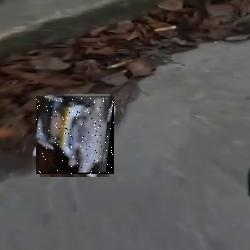restaffald: (36, 96, 114, 174)
